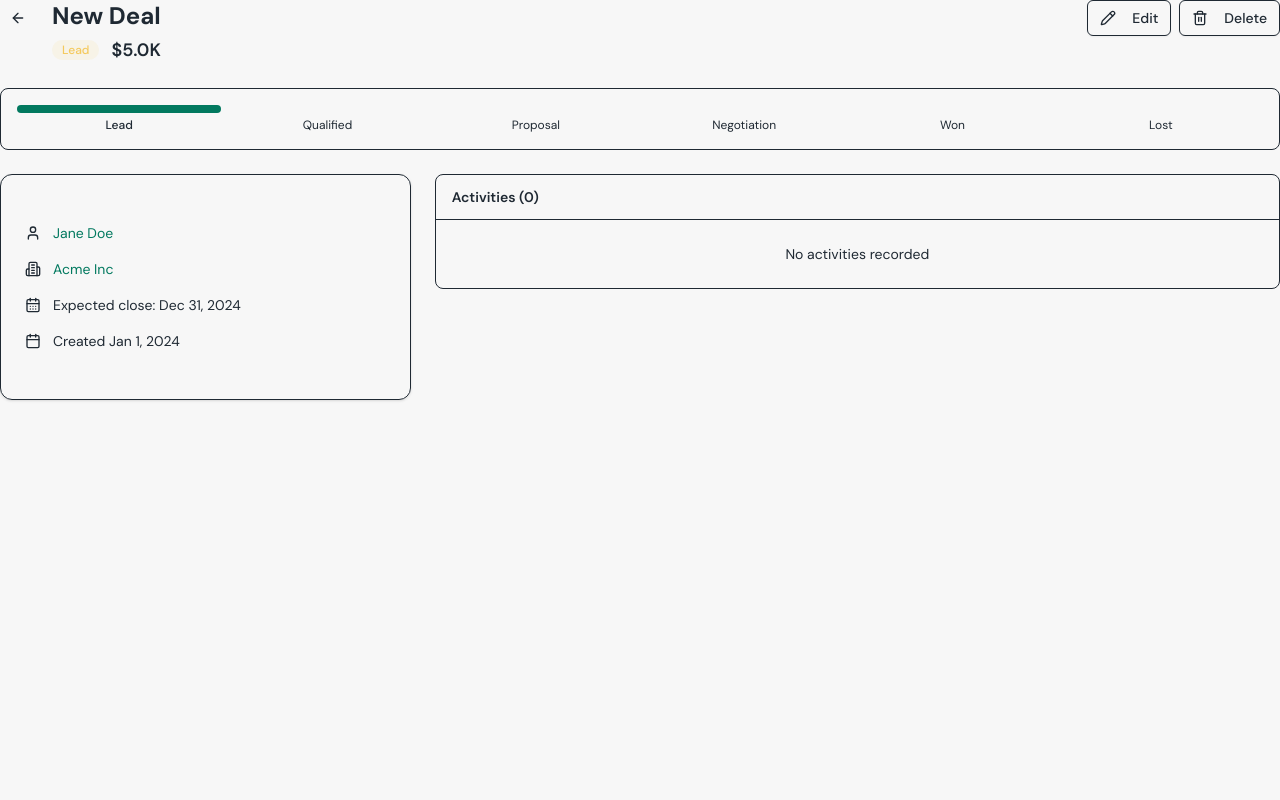
Scenario: DealDetailPage › cancels the delete dialog without deleting
Expected: the heading "New Deal" is shown, [52,0,161,31]
Click the button "Delete" at (1230, 18), box [1179,0,1279,36]
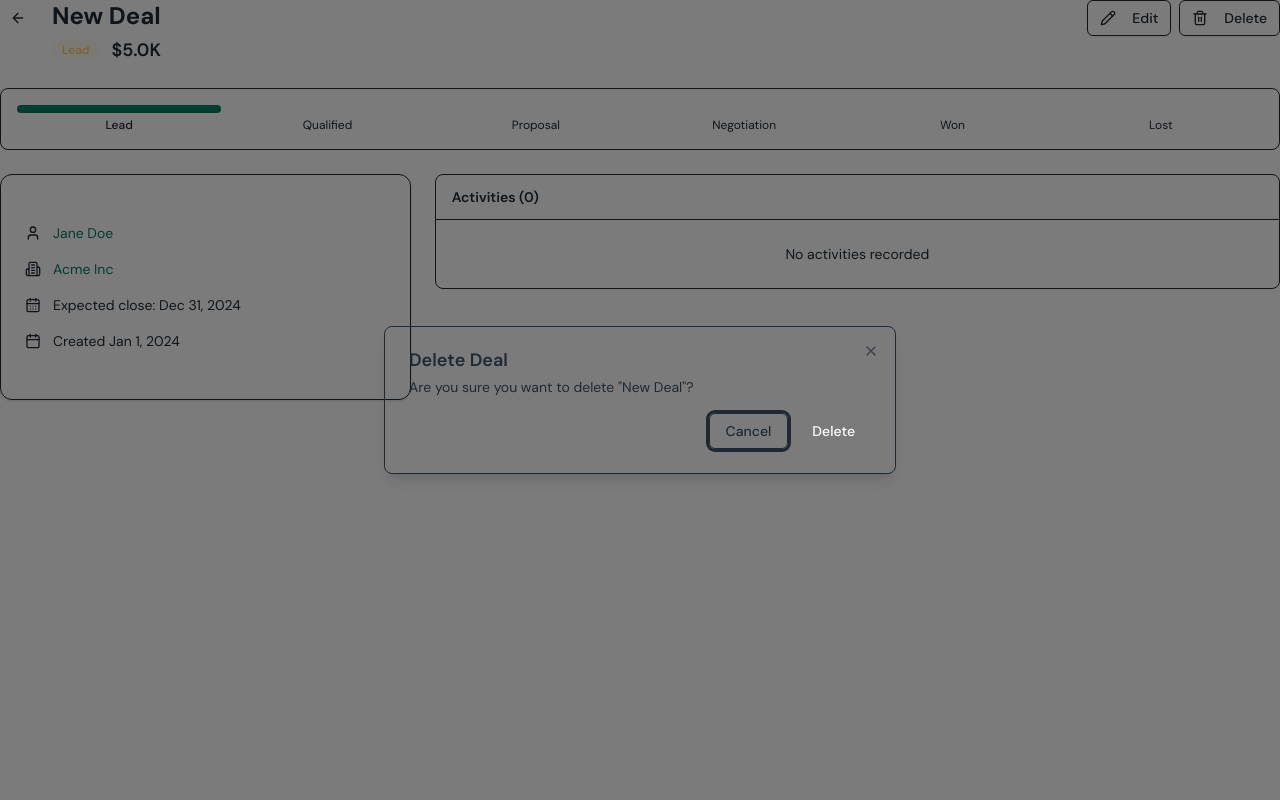
Click the button "Cancel" at (748, 431), box [709,413,788,449]
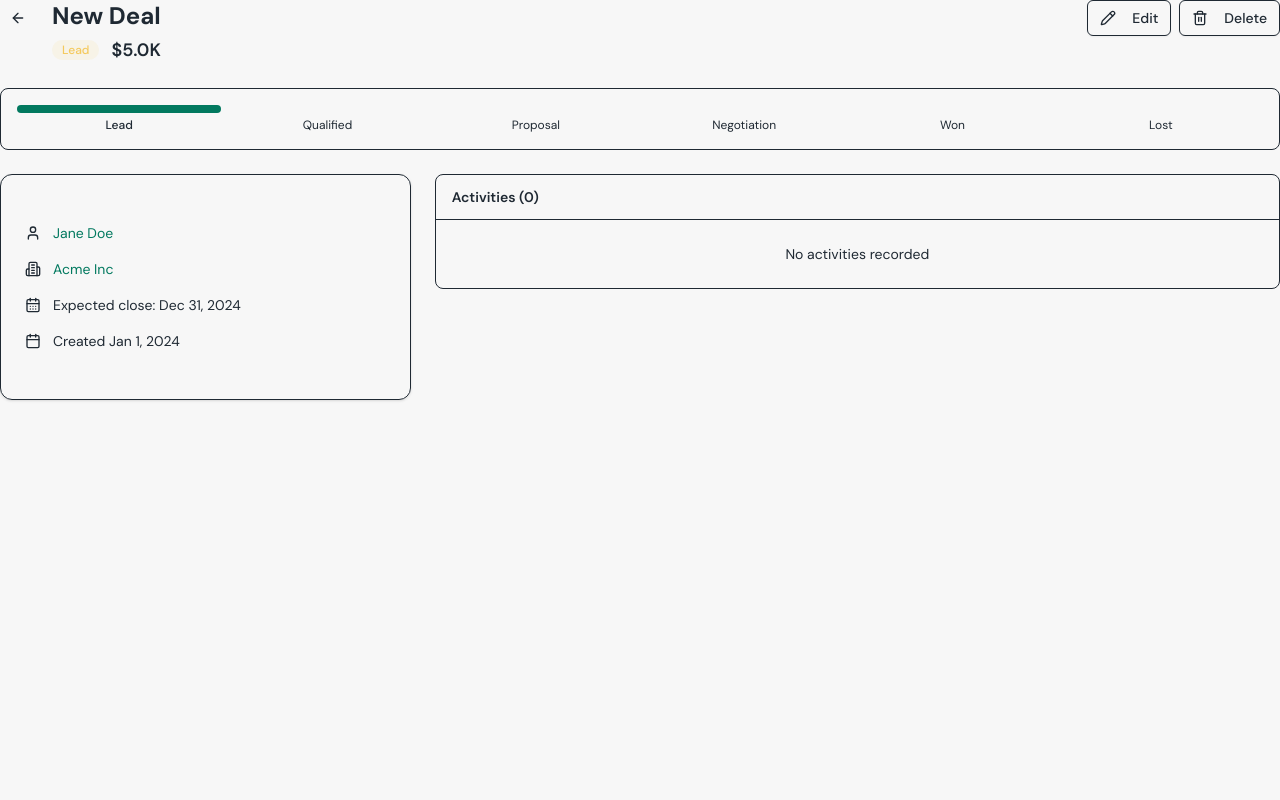
Result: the dialog is gone
